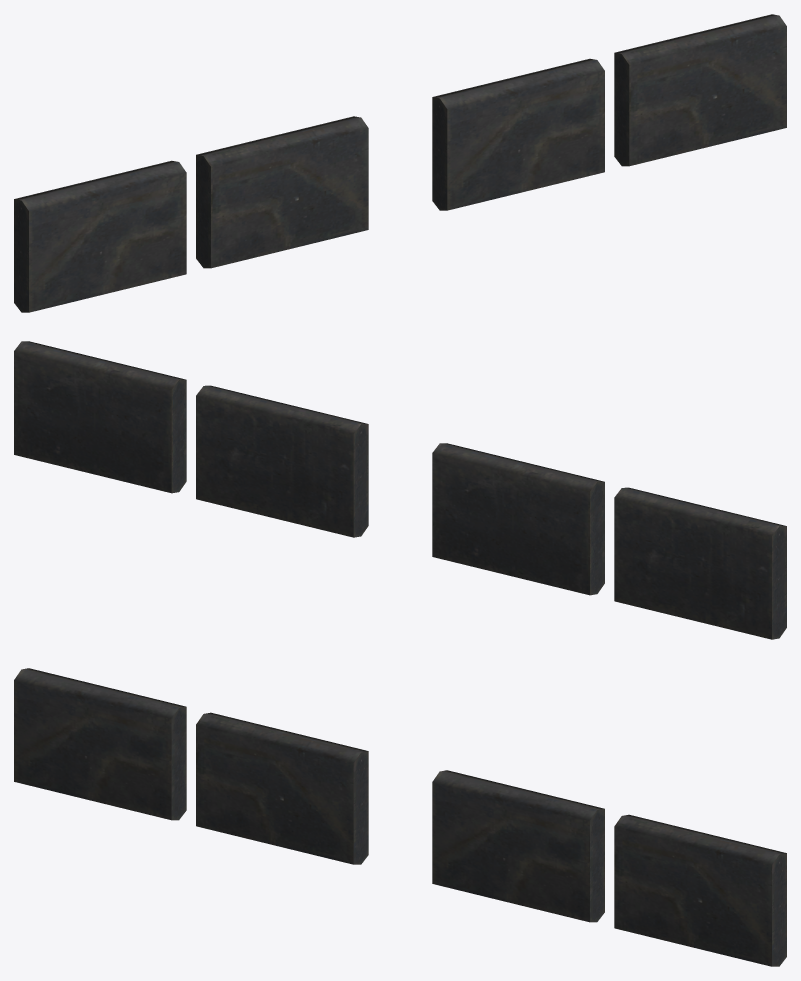
Rendered from segmentL2.glb.
3 views of the same model, one above another, from view 1: azimuth 30°, elevation 25°; view 2: azimuth 150°, elevation 25°; view 3: azimuth 330°, elevation 25° (orthographic).
Visible parts, largest first — view 1: set_0_group_0; view 2: set_0_group_0; view 3: set_0_group_0.
Boxes of the visible parts, x1,y1,x2,y2 form: set_0_group_0: [14, 14, 786, 312]; set_0_group_0: [14, 341, 786, 639]; set_0_group_0: [14, 668, 786, 966].
Bounding box in the file's own units: 1.09 × 0.1545 × 0.0374.
Materials: 1 (1 with a texture image).
